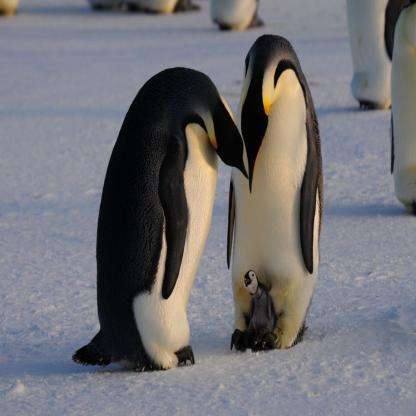Penguin: (60, 44, 254, 389), (219, 25, 337, 370), (228, 262, 288, 369)
